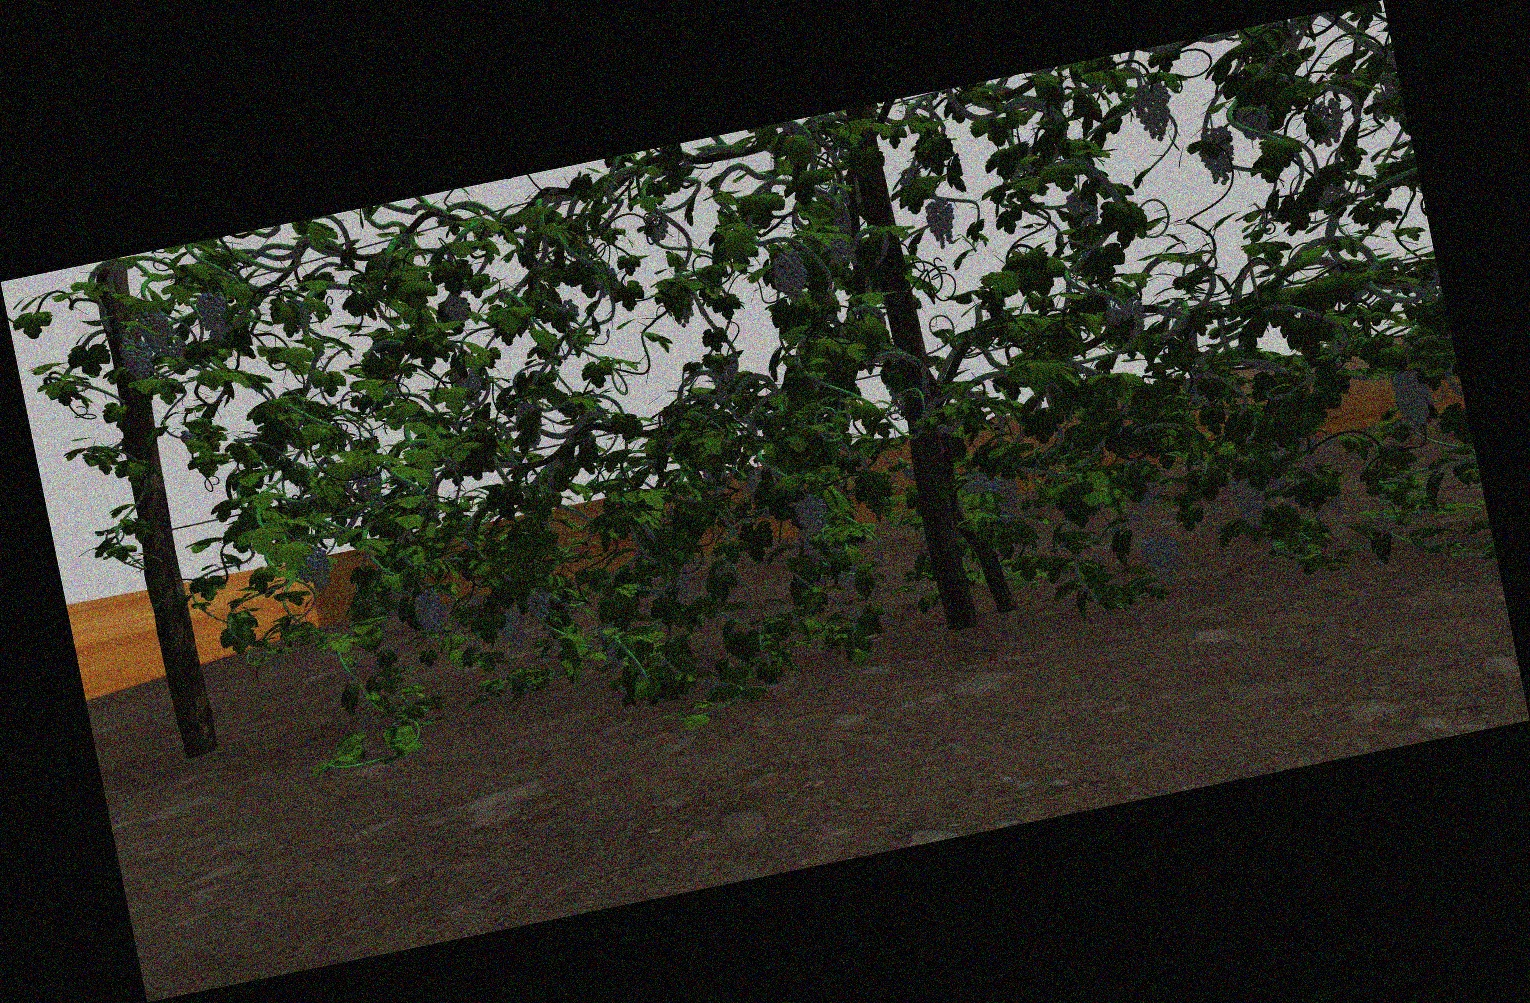grape: (1395, 369, 1434, 432), (1134, 82, 1174, 142), (1200, 126, 1237, 186), (1231, 475, 1266, 529), (1144, 532, 1180, 584), (775, 251, 808, 303), (1311, 99, 1346, 147), (1107, 299, 1147, 340), (139, 307, 172, 351), (200, 291, 229, 343), (927, 199, 957, 249), (122, 336, 153, 382), (415, 588, 445, 635), (794, 494, 828, 534), (303, 549, 332, 592), (1238, 105, 1271, 142), (499, 609, 527, 650), (708, 358, 738, 396), (457, 368, 484, 405), (993, 477, 1019, 515), (667, 568, 692, 600), (528, 589, 551, 624), (963, 471, 991, 498), (445, 296, 469, 324), (646, 213, 668, 242), (828, 238, 848, 264), (556, 299, 578, 318)
